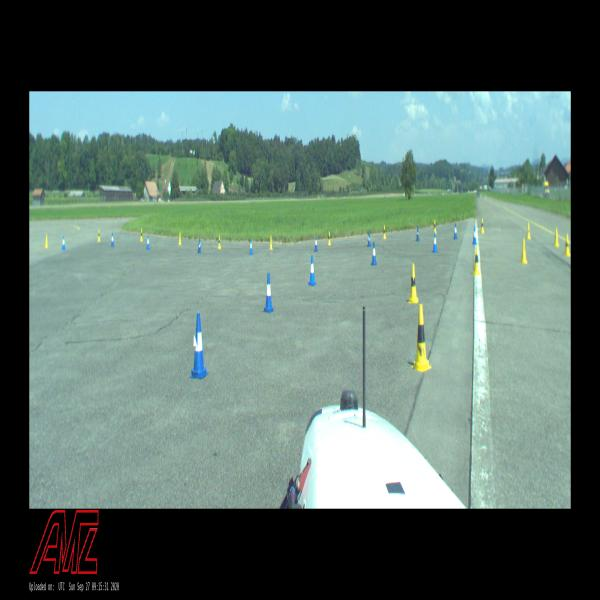blue_cone: (190, 313, 208, 379), (263, 272, 275, 312), (308, 254, 316, 286), (370, 241, 377, 266), (472, 224, 478, 246), (432, 232, 438, 253), (453, 223, 458, 240), (249, 238, 253, 255), (416, 225, 420, 242), (314, 236, 318, 252), (367, 231, 371, 247), (110, 232, 114, 247), (62, 235, 66, 250), (198, 238, 202, 253), (146, 235, 150, 249)
yellow_cone: (411, 305, 432, 372), (409, 263, 418, 304), (473, 245, 480, 275), (520, 238, 527, 264), (564, 234, 571, 256), (554, 228, 560, 247), (526, 222, 531, 240), (480, 218, 485, 234), (327, 231, 331, 246), (218, 235, 222, 250), (270, 235, 274, 250), (432, 220, 436, 234), (44, 235, 48, 248), (178, 232, 182, 245), (383, 224, 386, 240), (140, 228, 143, 241), (98, 230, 100, 241)
